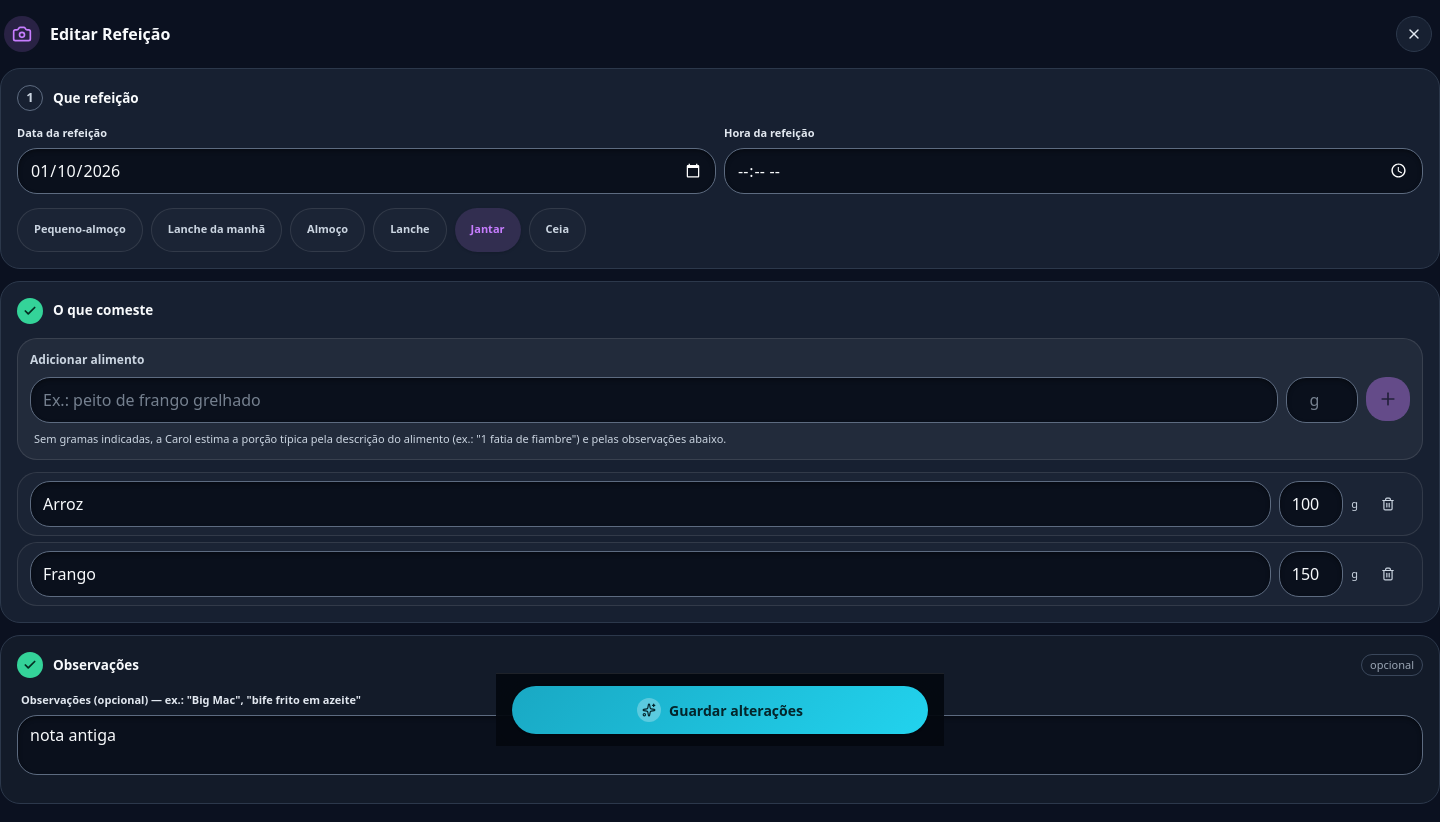
it: MealRegistration — editar refeição existente › não deixa gravar uma refeição sem alimento nenhum e sem observações
Click the button named "Remover Arroz". click: (1388, 504)
box: x1=1366 y1=482 x2=1410 y2=526
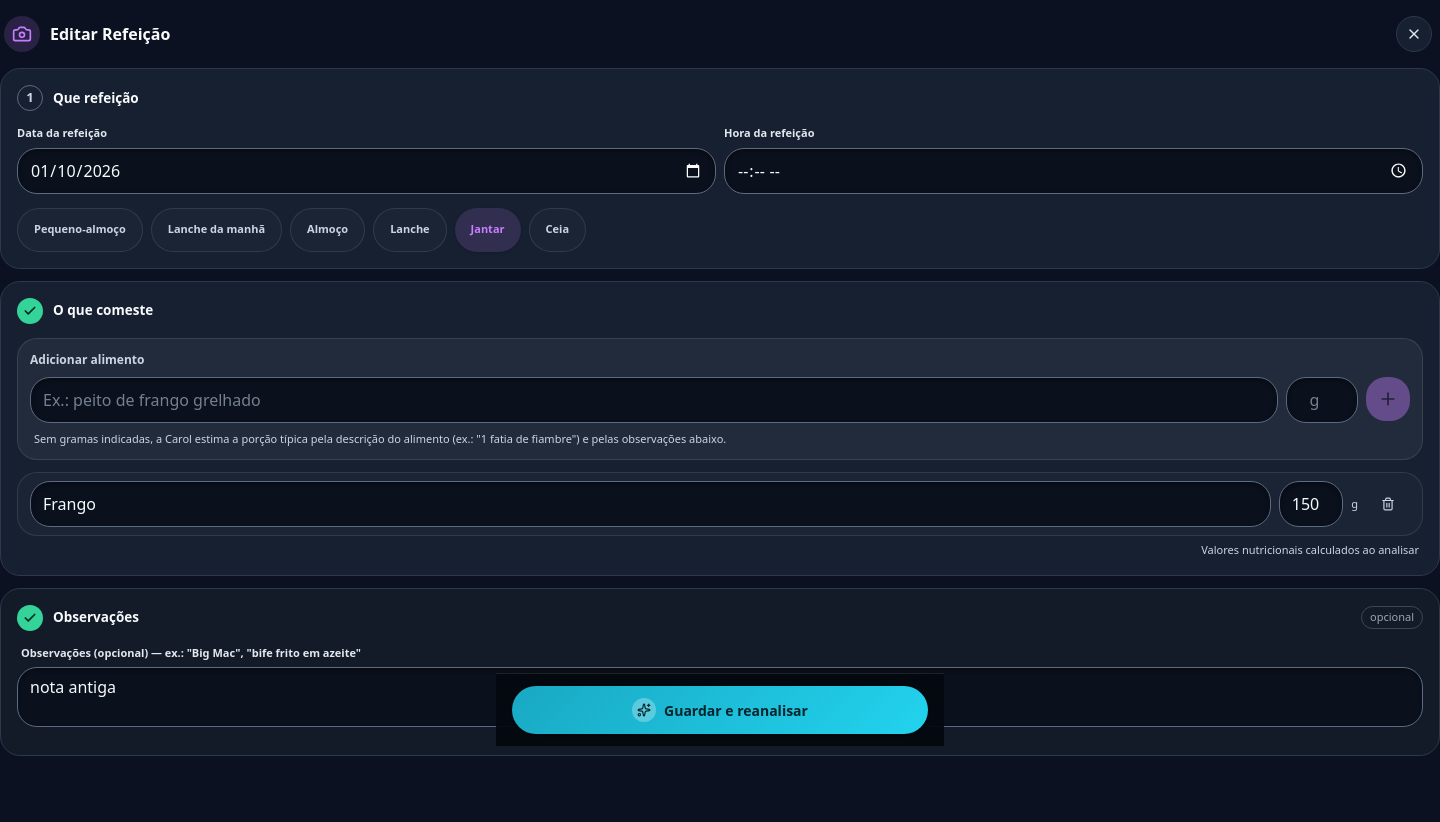
Click the button named "Remover Frango". click: (1388, 504)
box: x1=1366 y1=482 x2=1410 y2=526
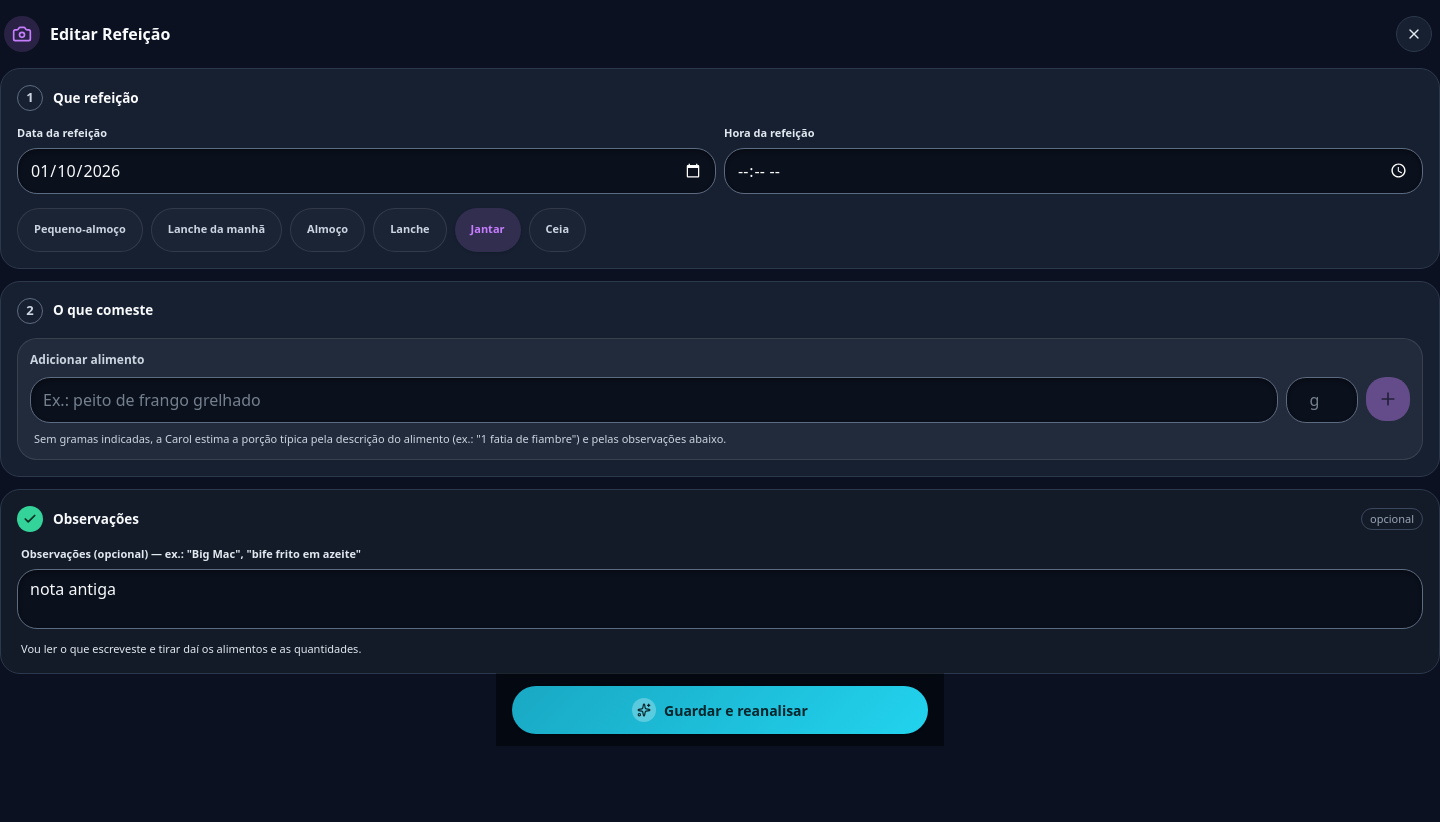
Clear the text box showing "nota antiga". click: (720, 599)
box: x1=17 y1=568 x2=1423 y2=629
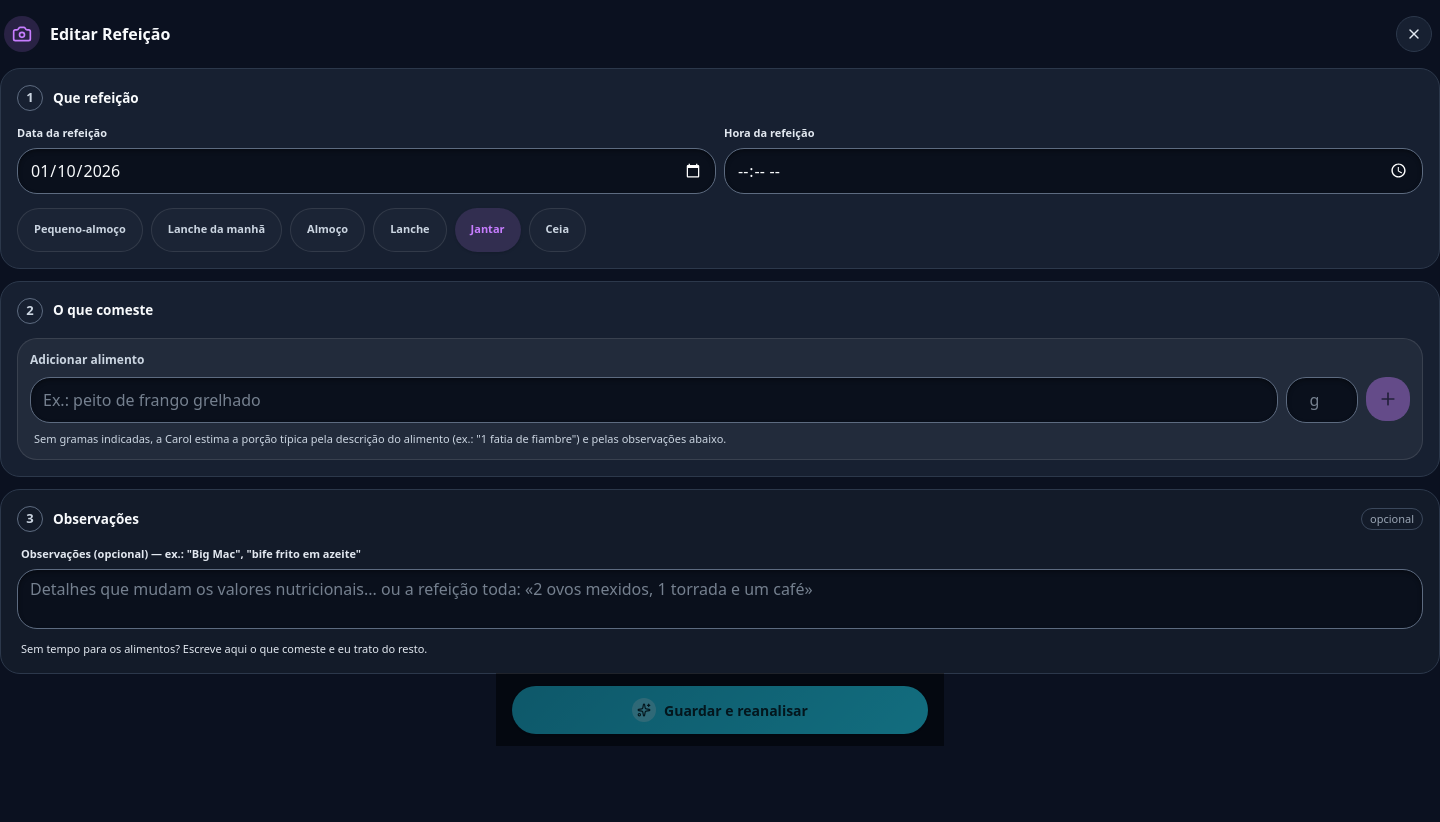
Result: the button "Guardar e reanalisar" is disabled at x1=512 y1=686 x2=928 y2=734
